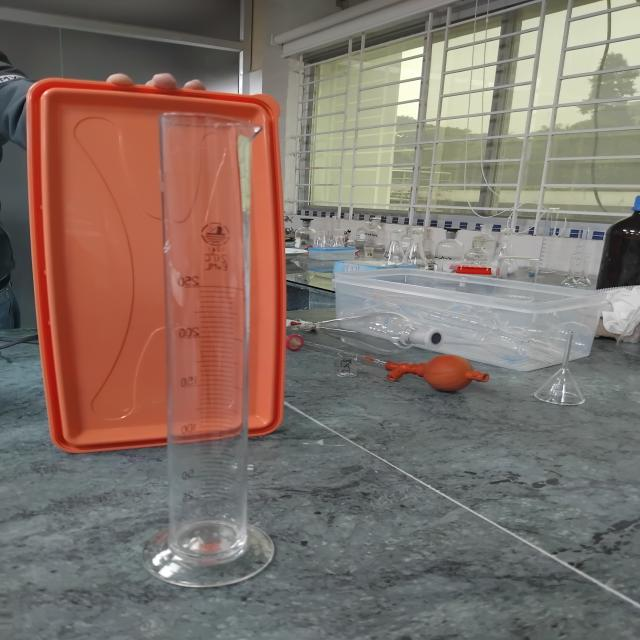Funnel: (519, 313, 597, 432)
Measuring_Cylinder: (103, 79, 330, 606)
Volumetric_Pipet: (358, 327, 504, 409)
